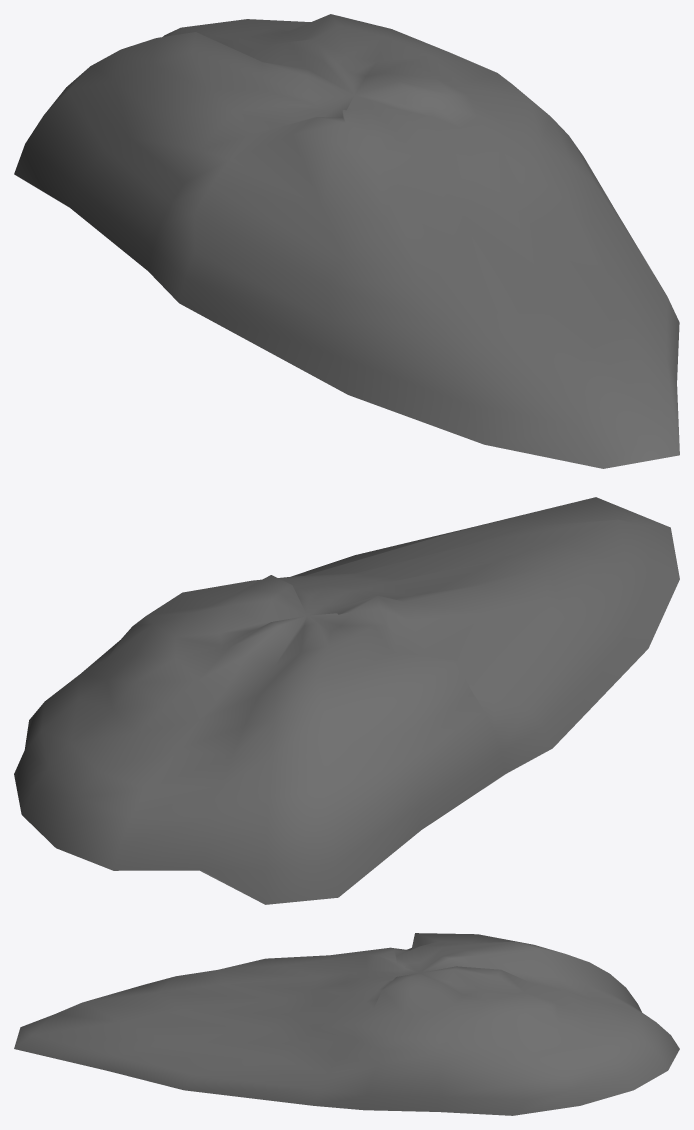
The model's file is Rock1.fbx.
3 renders of one model, top to bottom at view 1: azimuth 30°, elevation 25°; view 2: azimuth 150°, elevation 25°; view 3: azimuth 270°, elevation 25°, orthographic. The views are drawn at different scales.
Visible parts, largest first — view 1: pSphere1; view 2: pSphere1; view 3: pSphere1.
Boxes of the visible parts, x1,y1,x2,y2 form: pSphere1: (14,14,679,468); pSphere1: (14,497,679,904); pSphere1: (14,933,679,1115).
Size of the model in its own units: 8.1 by 2.79 by 17.03.
Materials: 1 (1 with a texture image).
